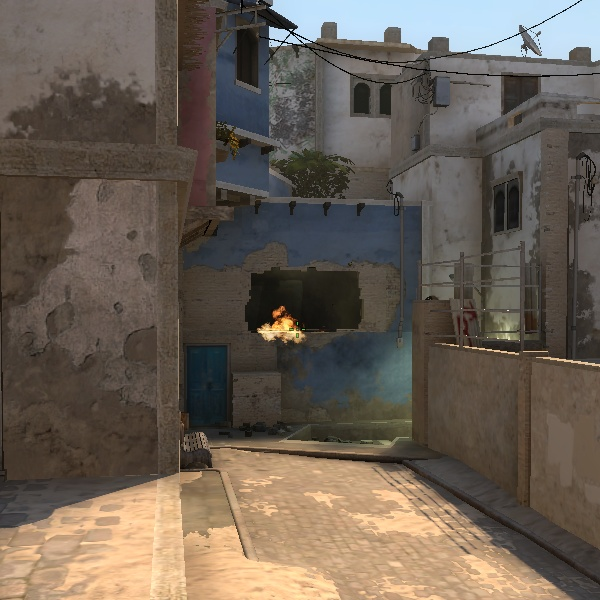t_body: (253, 300, 305, 336)
